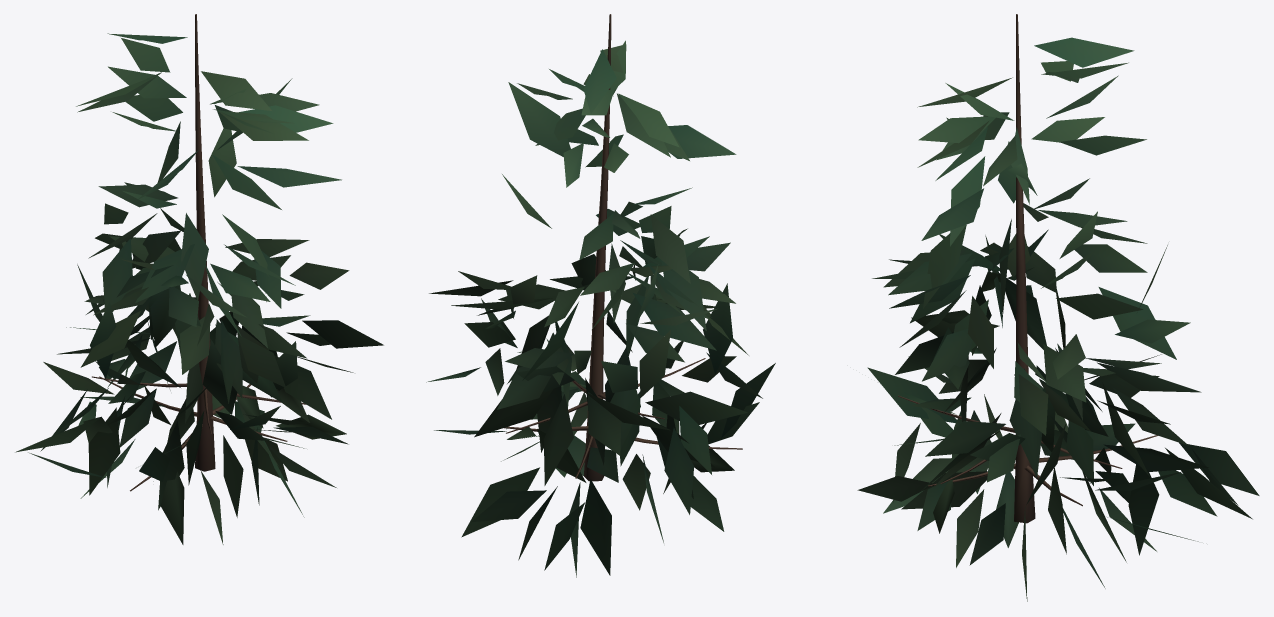
The model's file is spruce-c.lod2.glb.
3 views of the same model, side by side, from view 1: azimuth 30°, elevation 25°; view 2: azimuth 150°, elevation 25°; view 3: azimuth 270°, elevation 25° (orthographic). The views are drawn at different scales.
Bounding box in the file's own units: 10.67 × 16.62 × 11.67.
